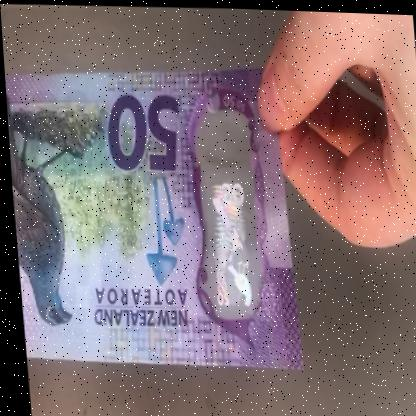50B: (197, 120, 253, 309)
